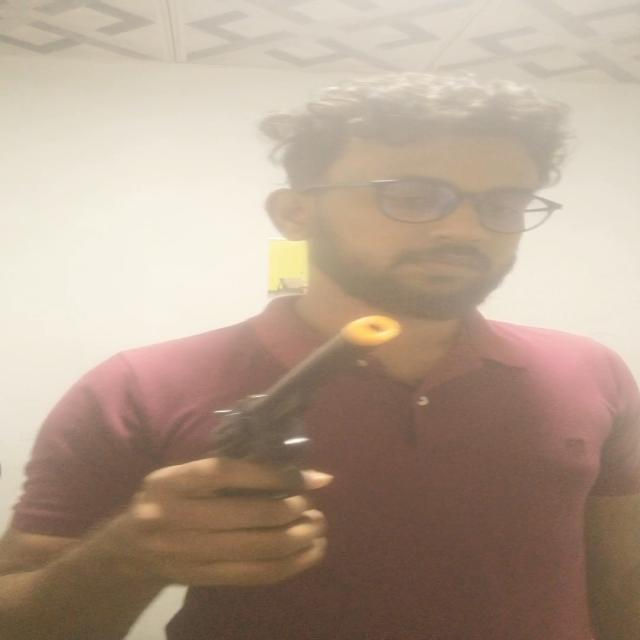Gun_Holder: (127, 294, 443, 574)
Person: (0, 52, 640, 640)
